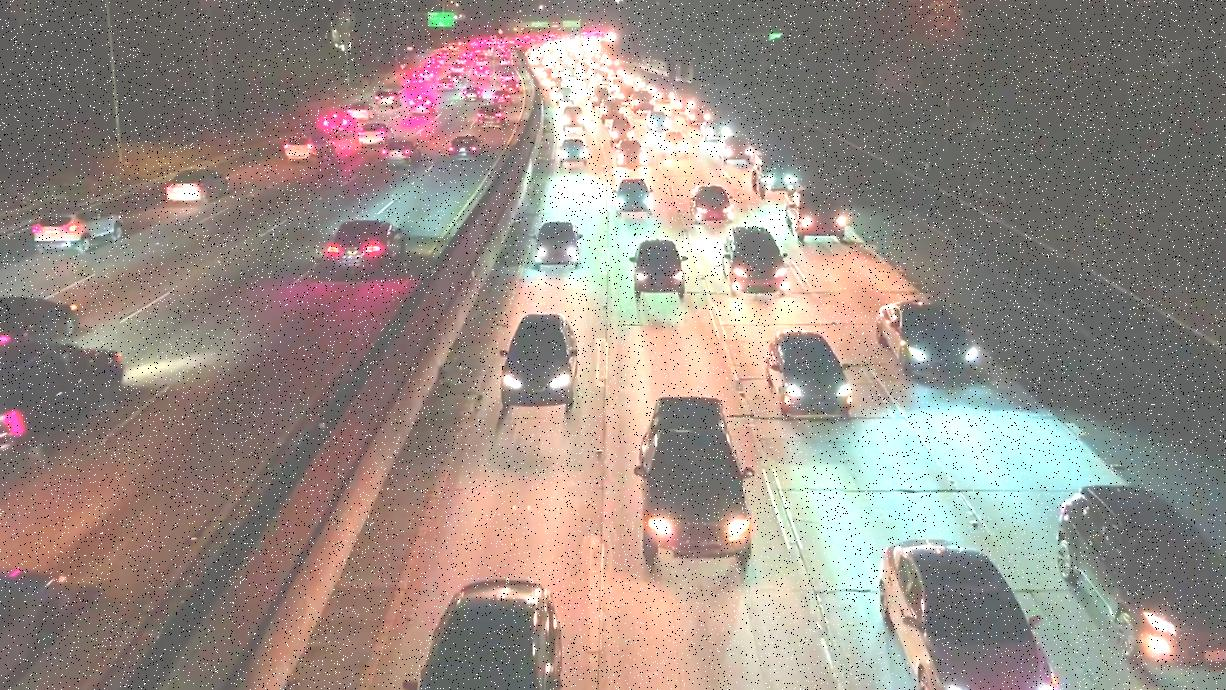car: (1049, 483, 1226, 681), (861, 533, 1061, 687), (623, 397, 757, 589), (393, 571, 585, 690), (0, 329, 135, 451), (495, 310, 584, 418), (873, 295, 975, 385), (763, 330, 858, 419), (719, 228, 793, 298), (627, 231, 689, 305), (323, 220, 407, 273), (0, 291, 79, 345), (26, 213, 125, 254), (782, 191, 859, 240), (748, 149, 804, 201), (164, 171, 233, 206), (534, 222, 583, 267), (612, 176, 657, 218), (688, 184, 732, 224), (283, 134, 336, 166), (381, 140, 425, 167), (557, 136, 593, 168), (613, 138, 649, 168), (660, 130, 691, 163), (717, 133, 751, 163), (319, 110, 357, 136), (356, 123, 395, 148), (560, 101, 589, 133), (449, 137, 486, 161), (476, 106, 511, 130), (701, 116, 732, 142), (644, 109, 672, 133), (408, 96, 435, 118), (350, 101, 378, 122), (373, 87, 401, 107), (493, 88, 513, 107), (464, 85, 484, 103), (435, 78, 455, 92)
